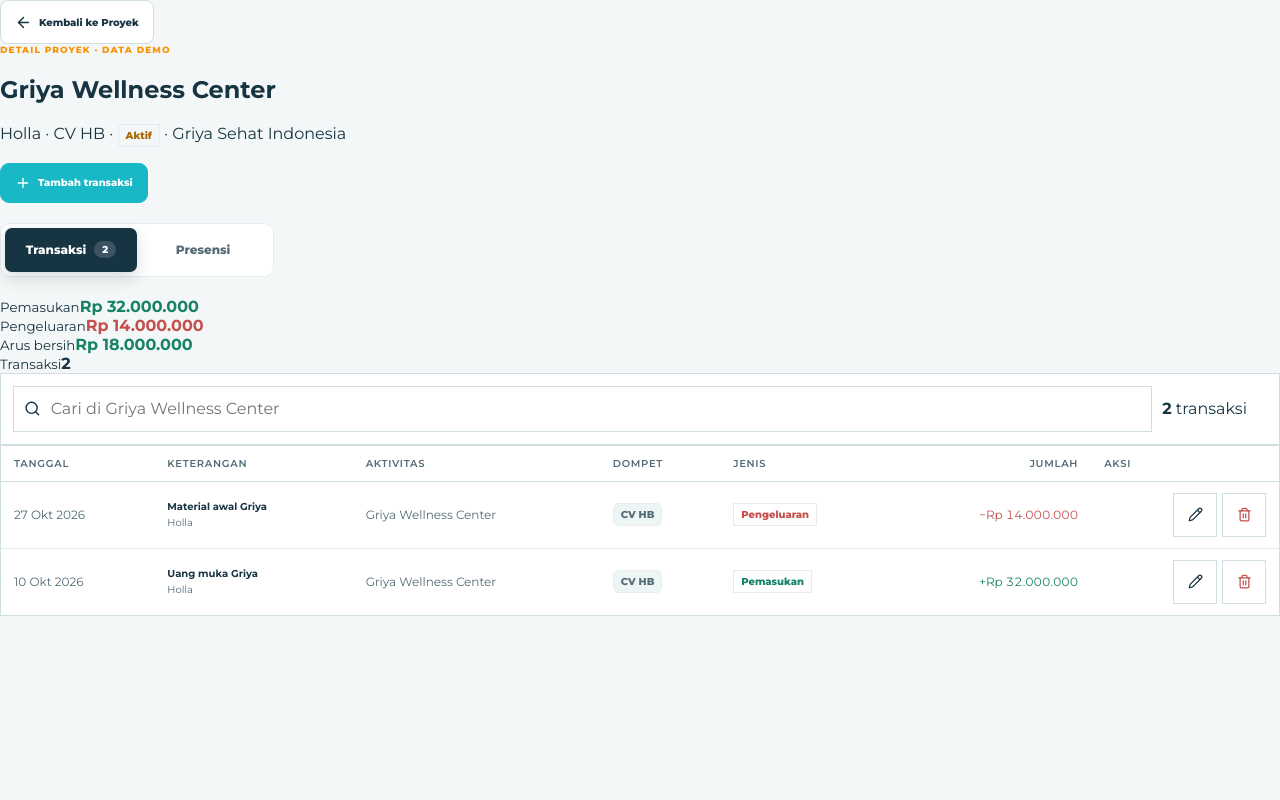
Scenario: project presensi detail › does not misrepresent legacy evidence without coordinates as Null Island
Click the tab "Presensi": (203, 250) top-left (137, 228), bottom-right (269, 272)
(page scrolled)
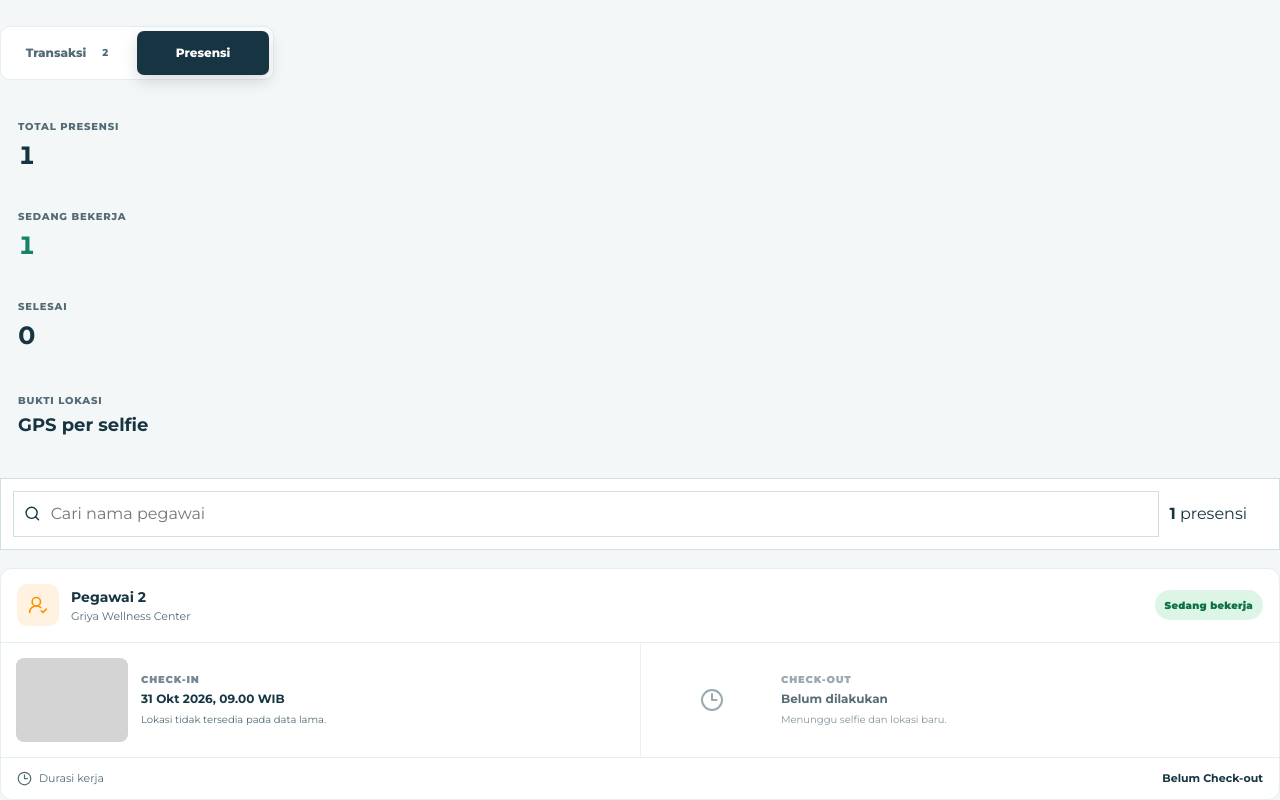
Now the text "Lokasi tidak tersedia pada data lama." is shown, box top-left (141, 713), bottom-right (326, 726)
